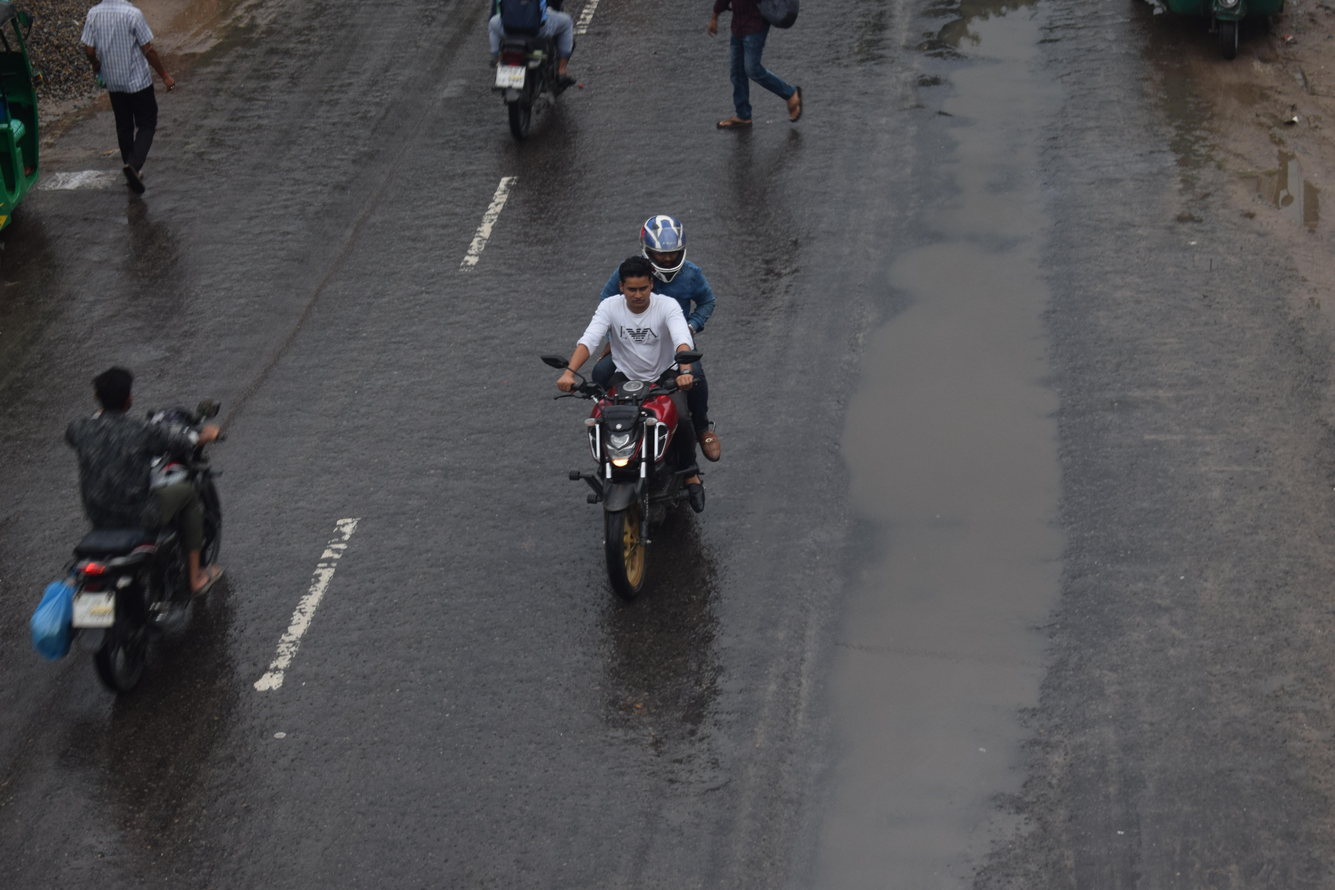Bike: (520, 163, 782, 638), (24, 323, 264, 733), (453, 0, 601, 178)
